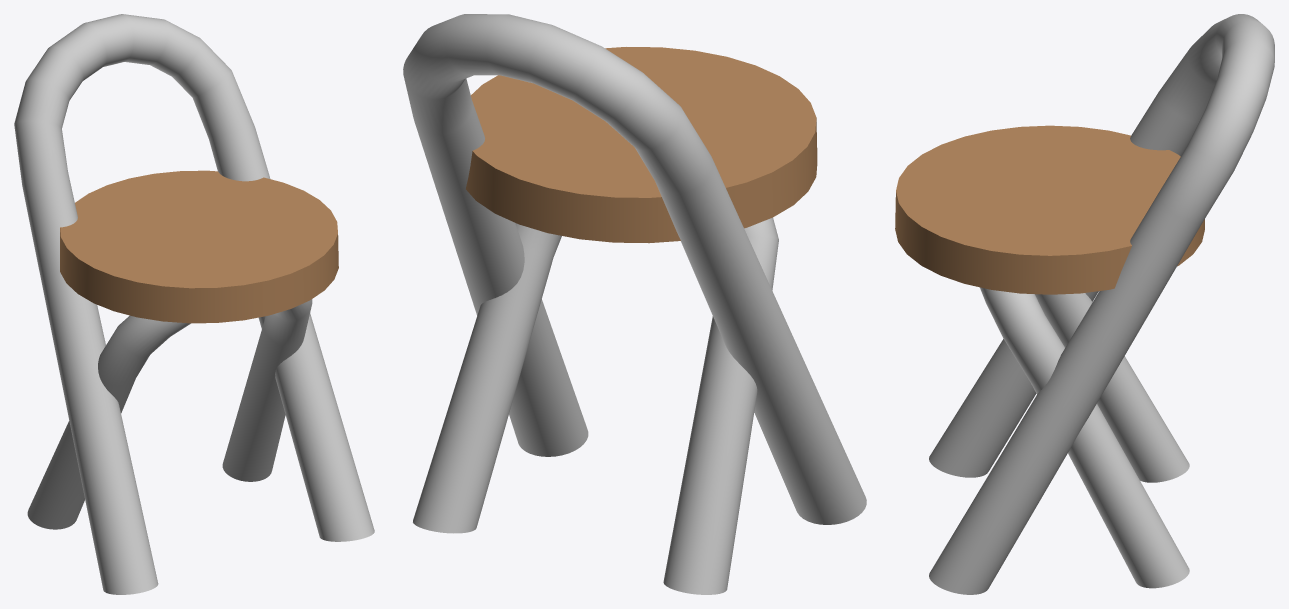
File: Kitchen chair.fbx
The picture shows the model from 3 angles, left to right: view 1: azimuth 30°, elevation 25°; view 2: azimuth 150°, elevation 25°; view 3: azimuth 270°, elevation 25°; orthographic projection. The views are drawn at different scales.
Visible parts, largest first — view 1: Kitchen chair; view 2: Kitchen chair; view 3: Kitchen chair.
Part boxes in pixels (bbox=[...]): Kitchen chair: bbox=[14, 14, 374, 594]; Kitchen chair: bbox=[403, 14, 866, 594]; Kitchen chair: bbox=[895, 14, 1274, 594].
Size of the model in its own units: 105 by 170 by 118.
